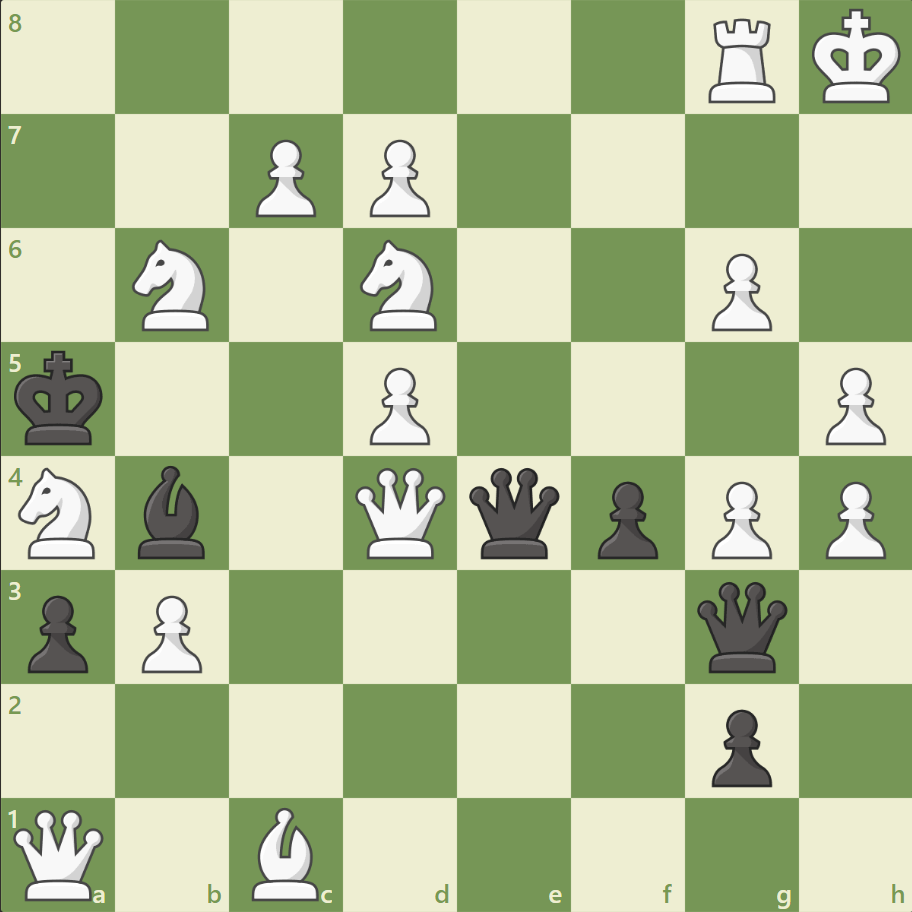B: (244, 801, 328, 904)
K: (806, 4, 906, 112)
N: (124, 234, 222, 337), (351, 234, 449, 337), (11, 461, 108, 564)
P: (247, 132, 322, 223), (701, 246, 776, 337), (701, 473, 776, 564), (133, 586, 208, 677), (361, 132, 435, 223), (361, 359, 435, 450), (815, 359, 889, 450), (815, 473, 889, 564)
Q: (351, 463, 450, 562), (10, 804, 109, 903)
R: (700, 12, 783, 109)
b: (131, 460, 215, 563)
k: (11, 344, 111, 452)
p: (20, 586, 95, 677), (701, 700, 776, 791), (588, 473, 662, 564)
q: (691, 576, 790, 676), (464, 463, 563, 562)
